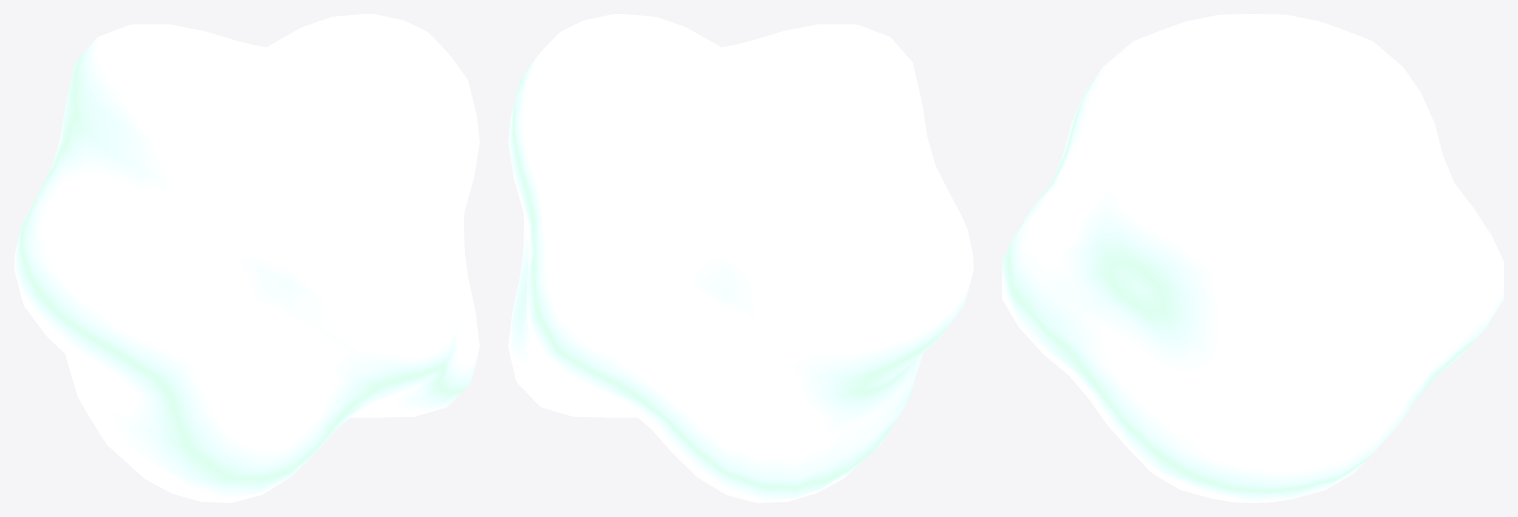
File: fx_glob.glb
3 renders of one model, left to right at view 1: azimuth 30°, elevation 25°; view 2: azimuth 150°, elevation 25°; view 3: azimuth 270°, elevation 25°, orthographic. The views are drawn at different scales.
Visible parts, largest first — view 1: fx_glob; view 2: fx_glob; view 3: fx_glob.
Part boxes in pixels (left/top/right/bottom): fx_glob: left=14, top=14, right=479, bottom=502; fx_glob: left=508, top=14, right=973, bottom=502; fx_glob: left=1002, top=14, right=1503, bottom=502.
Size of the model in its own units: 2.08 by 2.1 by 2.31.
